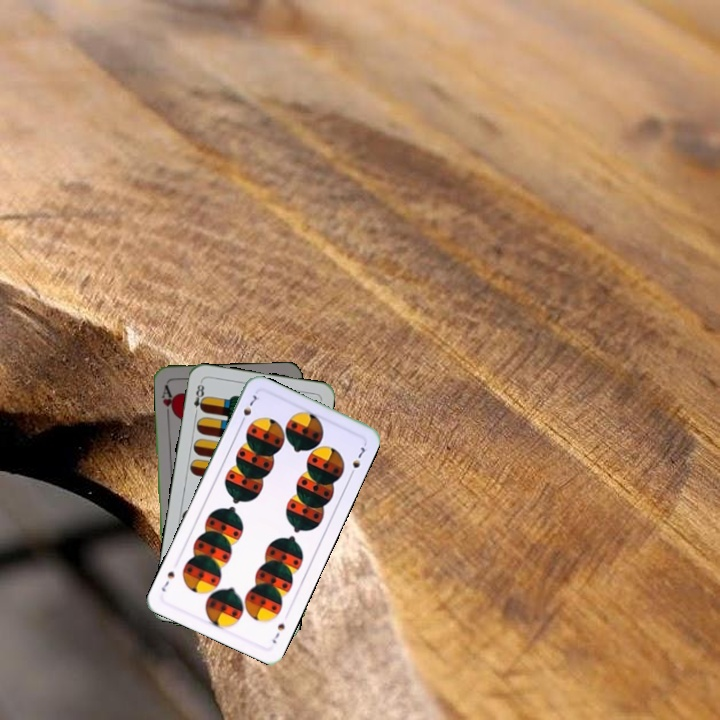E8: (189, 378, 208, 418)
HA: (157, 381, 178, 420)
S7: (236, 389, 262, 427), (268, 619, 288, 646)
